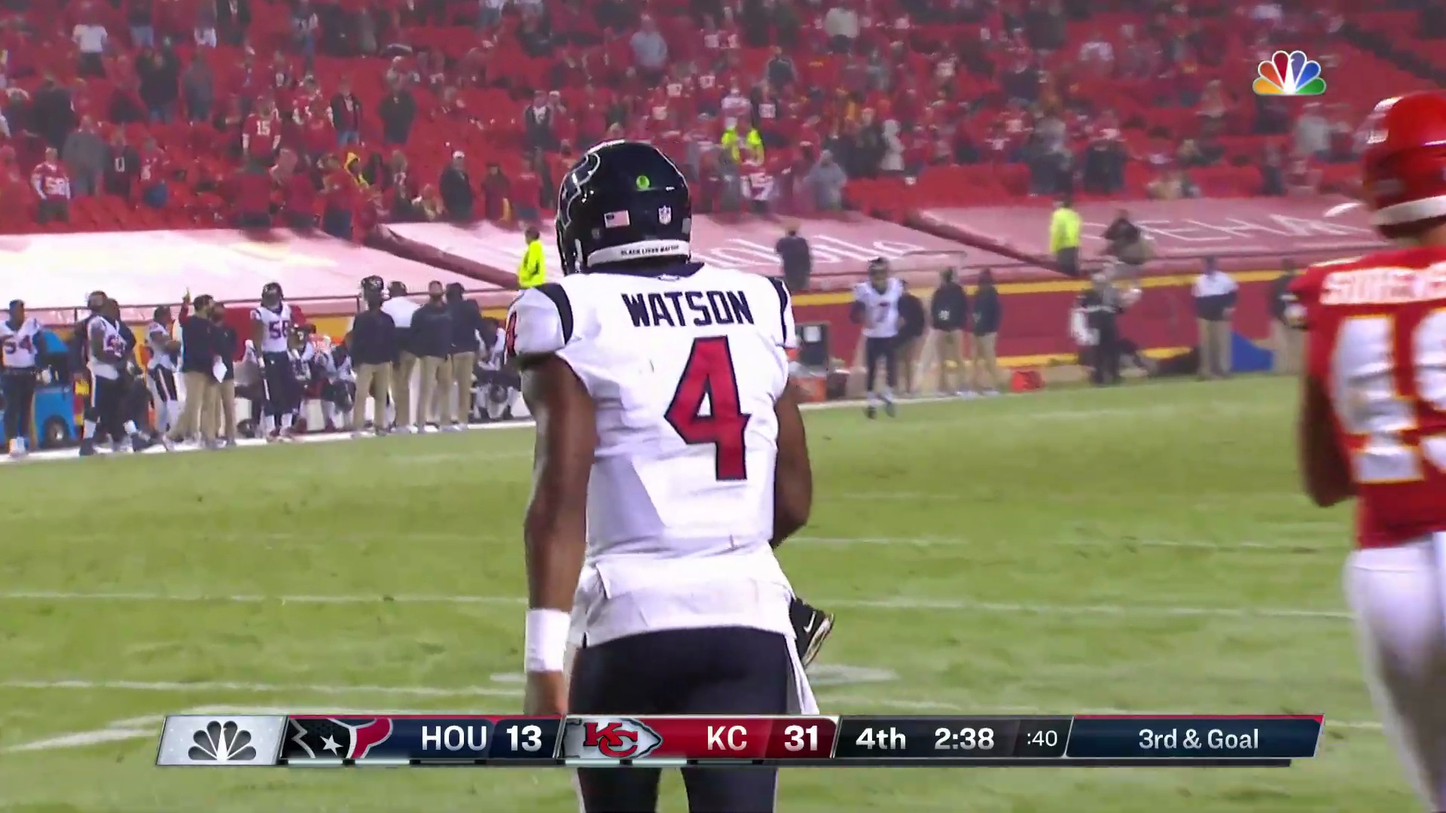Player: (511, 223, 916, 700), (1308, 245, 1446, 740)
